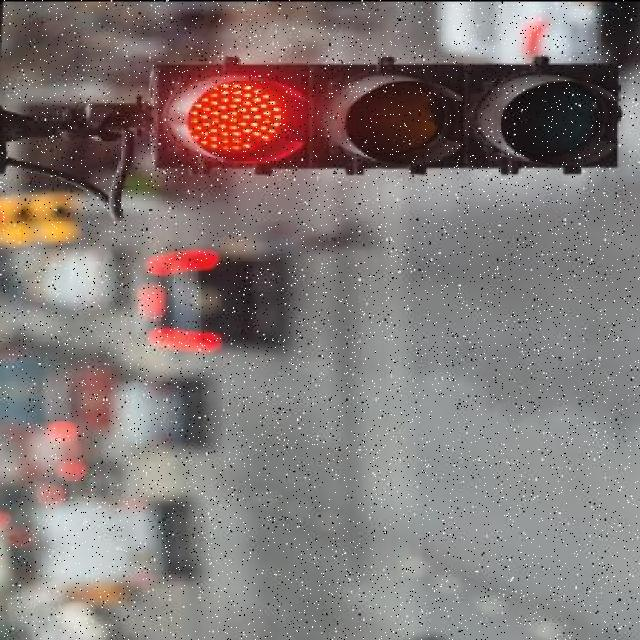red-light: (124, 49, 640, 187)
